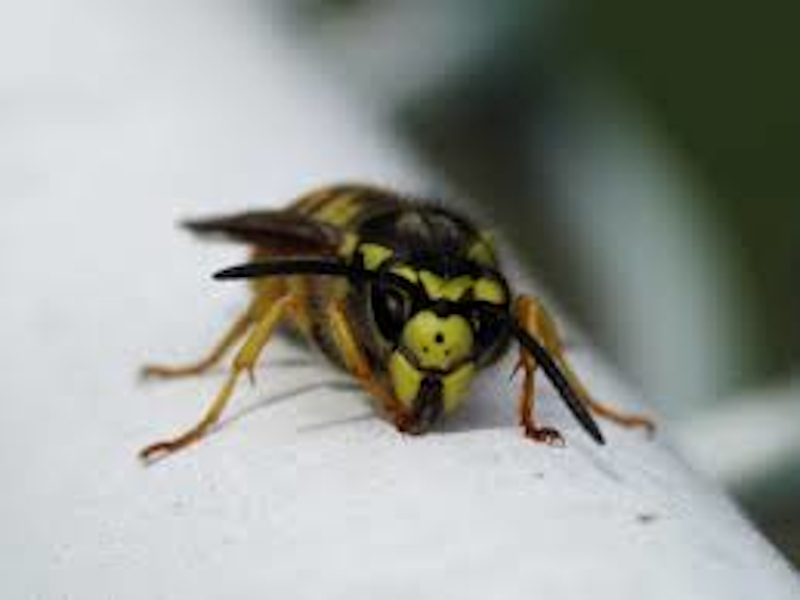chax: (115, 152, 657, 489)
